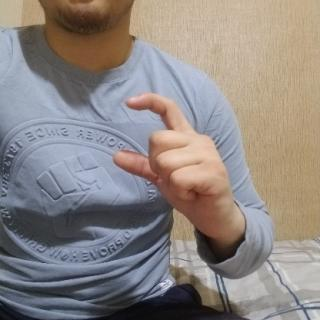DELL: (112, 90, 240, 242)
